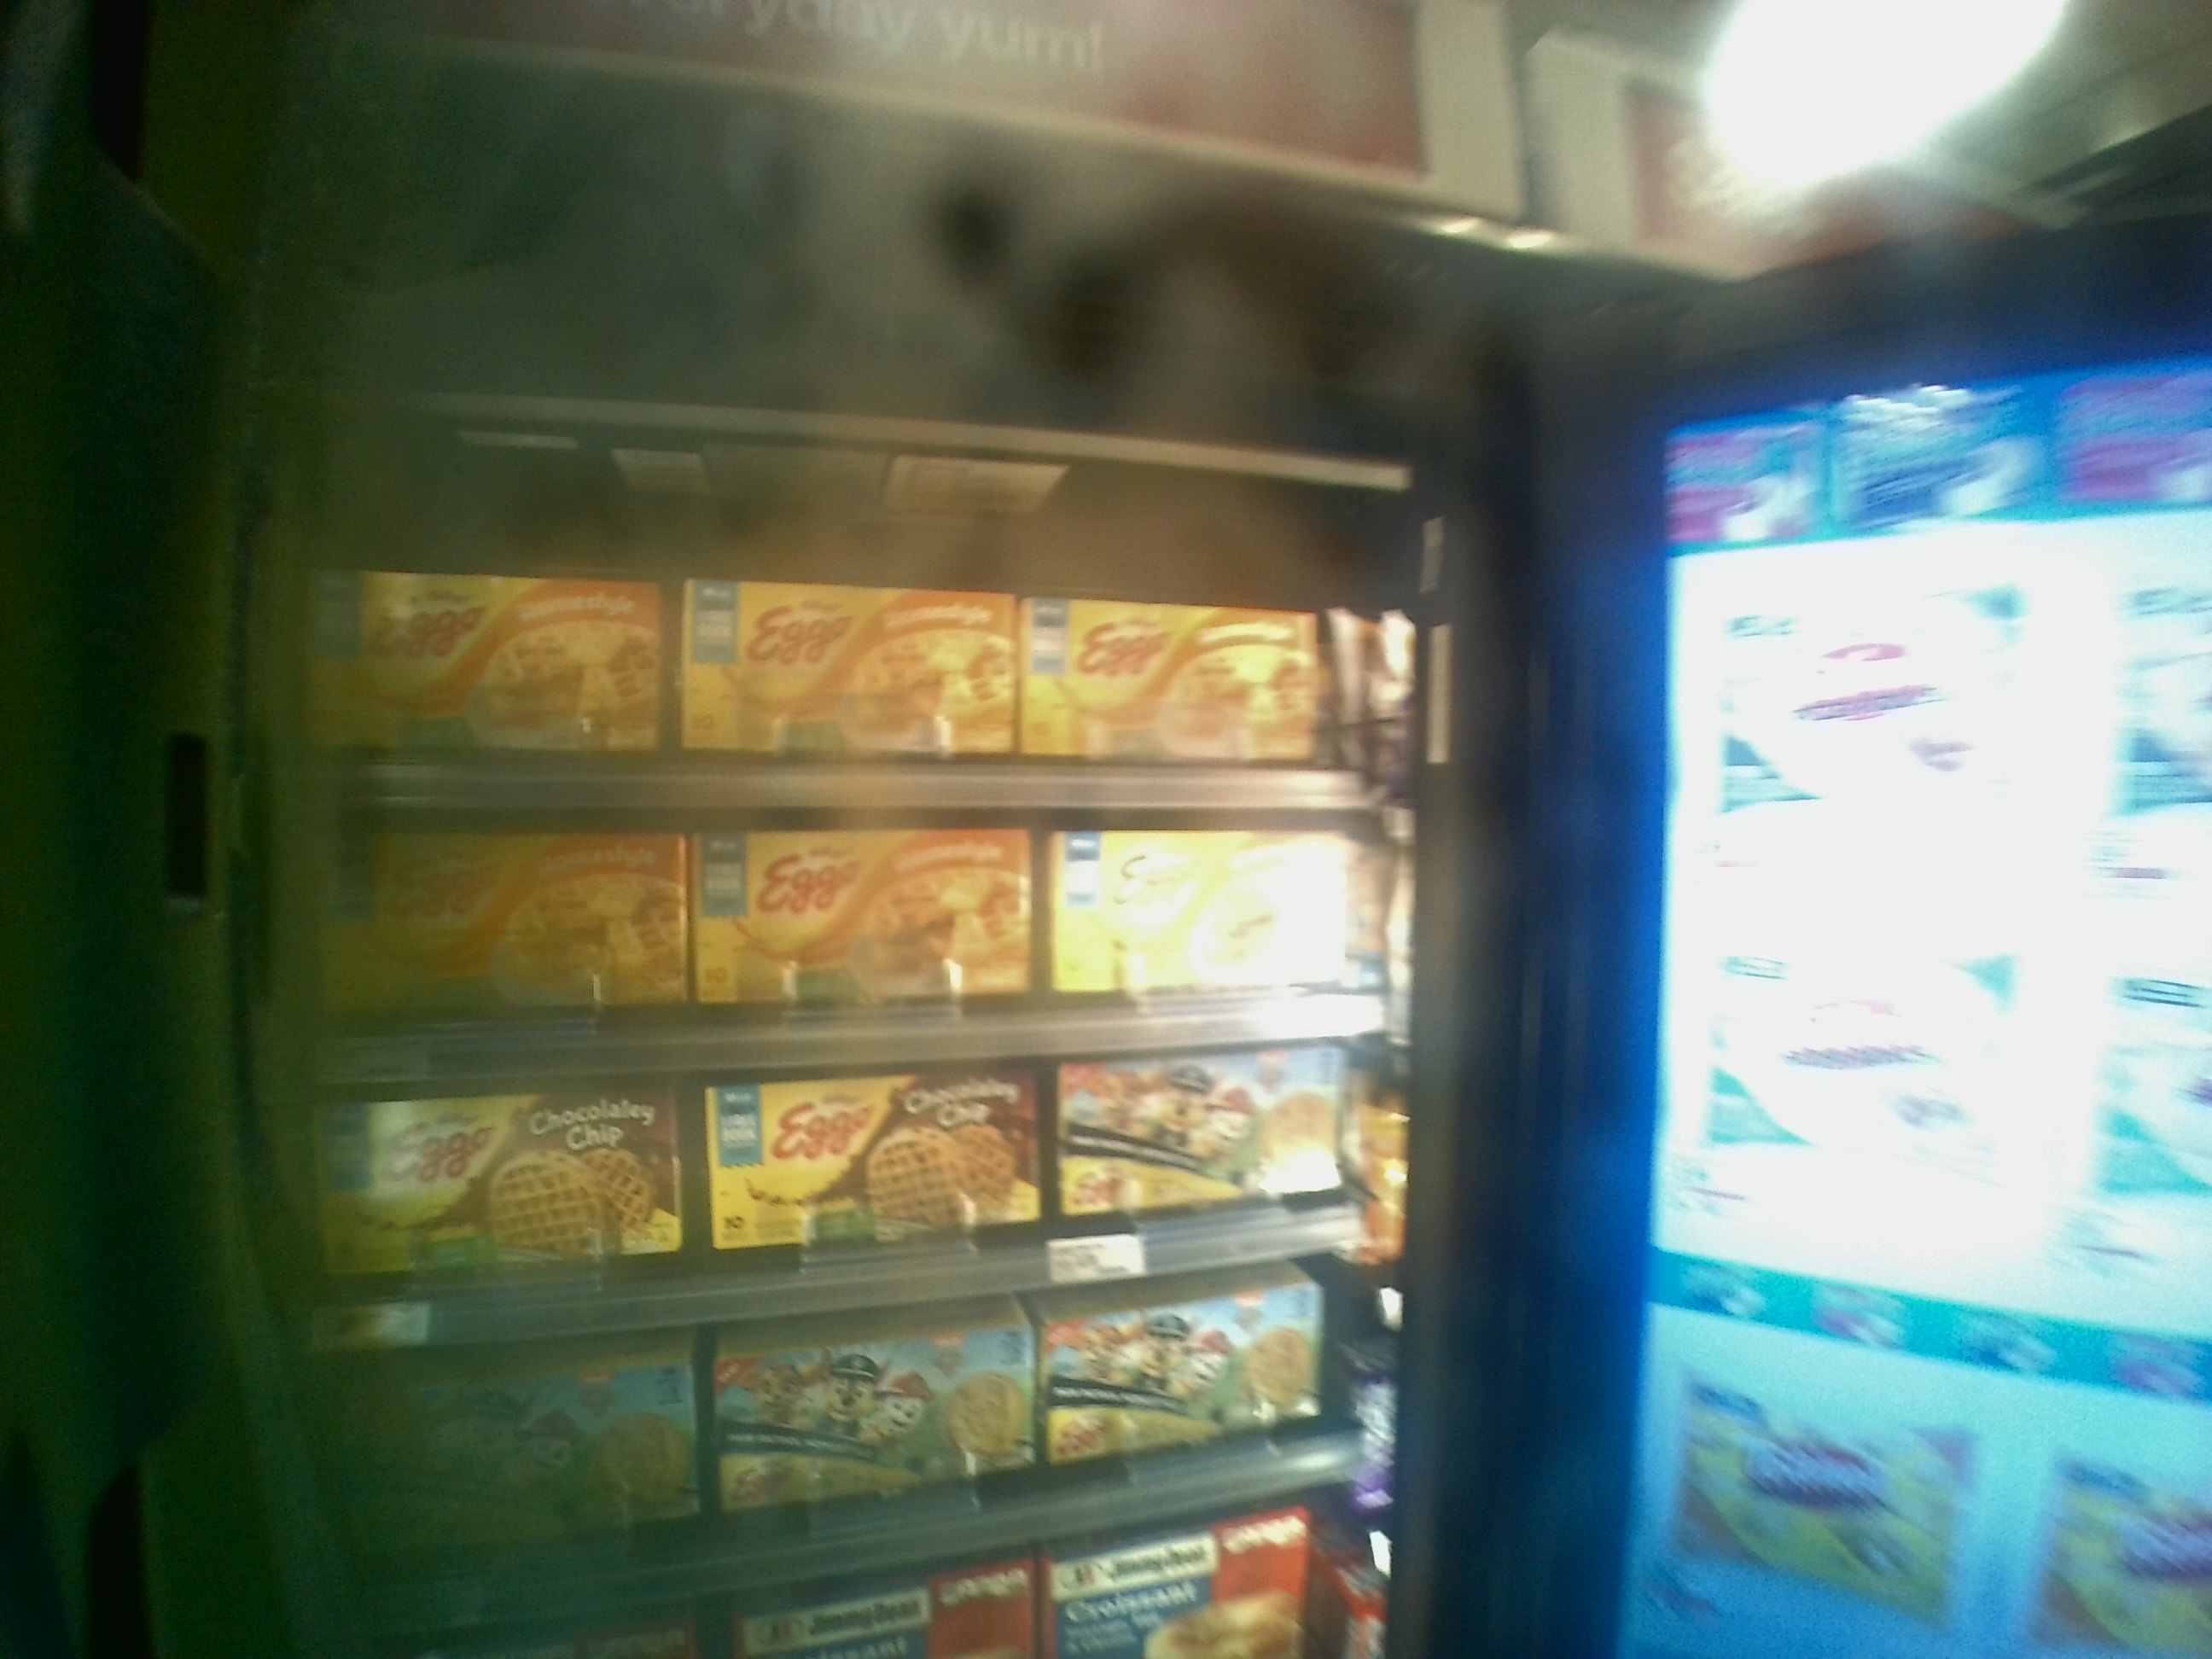shelf: (310, 1030, 1435, 1349), (324, 500, 1430, 809), (319, 812, 1458, 1080)
